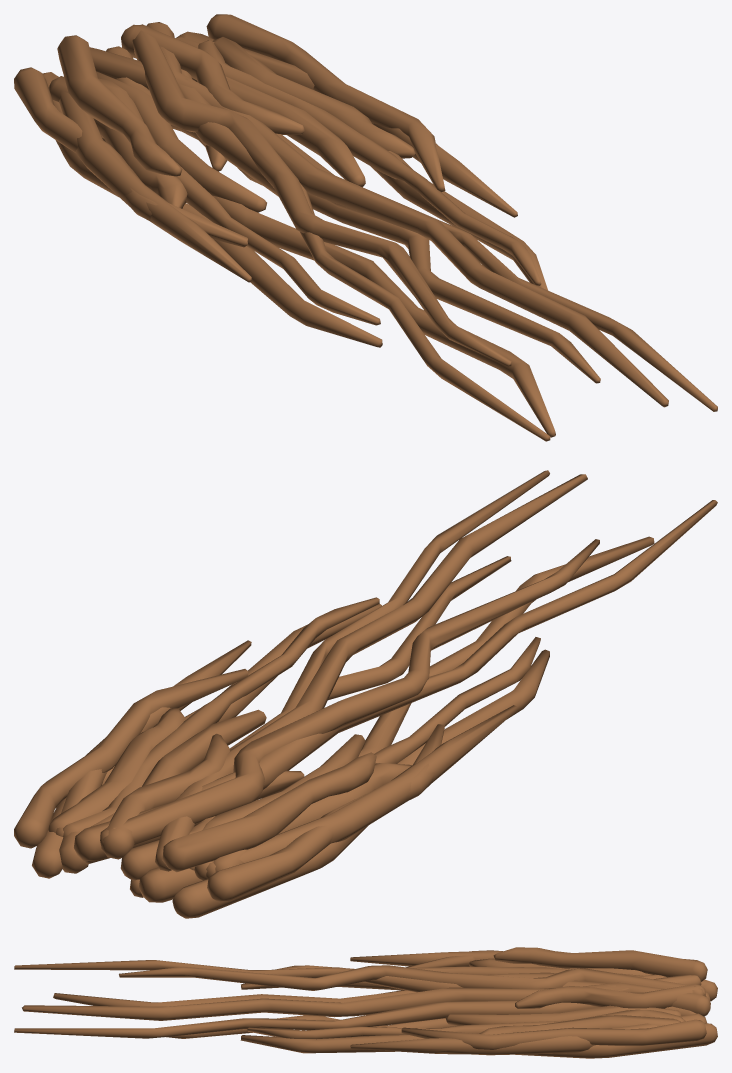
File: Tentacle Beard.fbx
3 renders of one model, top to bottom at view 1: azimuth 30°, elevation 25°; view 2: azimuth 150°, elevation 25°; view 3: azimuth 270°, elevation 25°, orthographic. The views are drawn at different scales.
Parts seen in each view (by area): view 1: Tentacle Beard - zutomayo (PercyCreeper); view 2: Tentacle Beard - zutomayo (PercyCreeper); view 3: Tentacle Beard - zutomayo (PercyCreeper).
Boxes of the visible parts, x1=… form: Tentacle Beard - zutomayo (PercyCreeper): x1=14, y1=14, x2=717, y2=441; Tentacle Beard - zutomayo (PercyCreeper): x1=14, y1=470, x2=717, y2=918; Tentacle Beard - zutomayo (PercyCreeper): x1=14, y1=947, x2=717, y2=1058.
Size of the model in its own units: 40.79 by 9.22 by 127.
